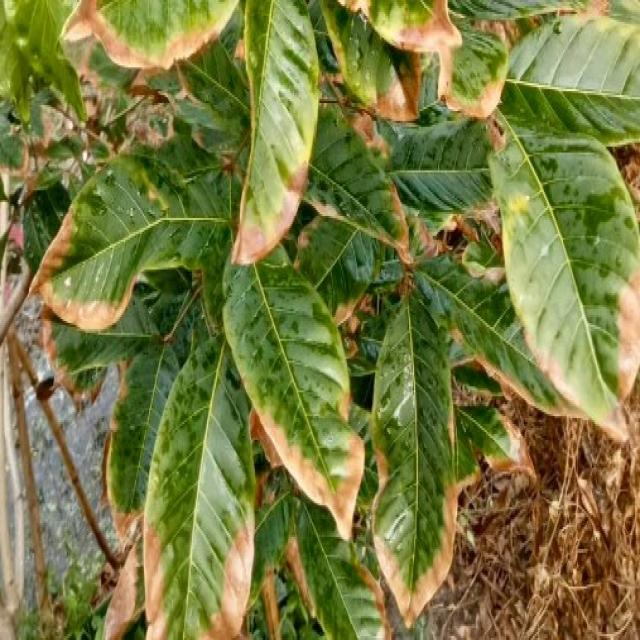Leaf Blight: (477, 236, 639, 468), (343, 450, 514, 611), (343, 2, 531, 140), (19, 174, 151, 369), (249, 352, 382, 534), (56, 4, 249, 120), (206, 120, 339, 275)
